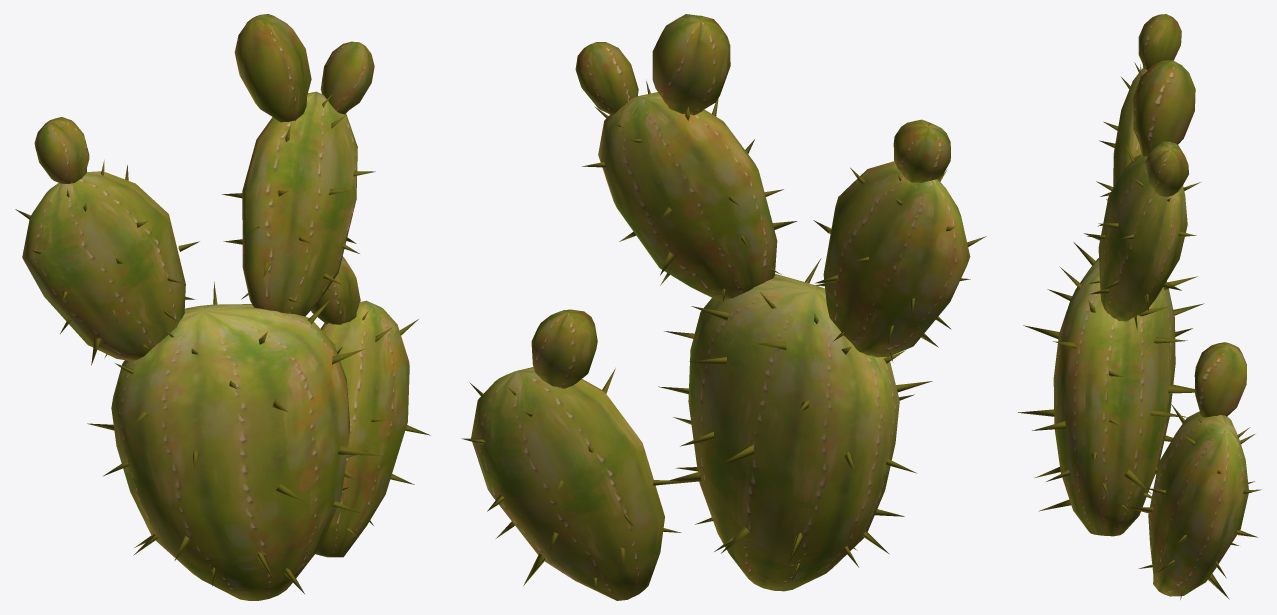
Rendered from P_CactusPricklyPear03.obj.
The picture shows the model from 3 angles, left to right: view 1: azimuth 30°, elevation 25°; view 2: azimuth 150°, elevation 25°; view 3: azimuth 270°, elevation 25°; orthographic projection. The views are drawn at different scales.
Bounding box in the file's own units: 1.4 × 1.71 × 0.7619.
